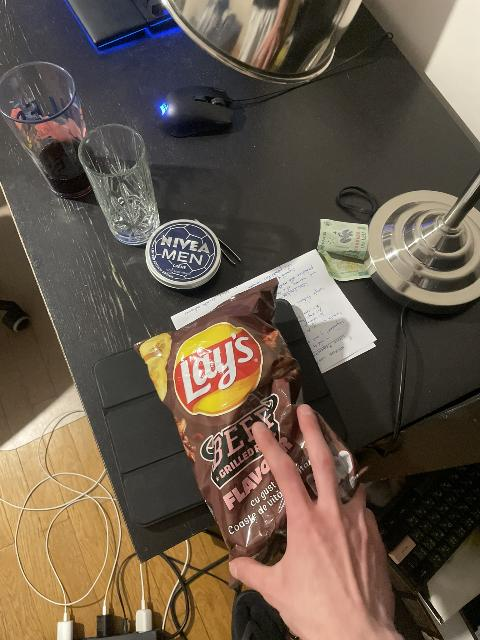Lays Beef Grilled Ribs 125g: (134, 278, 354, 578)
